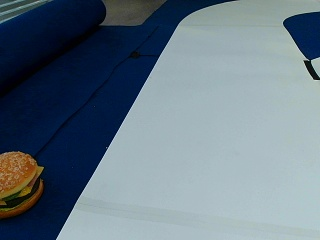burger: (0, 149, 44, 218)
